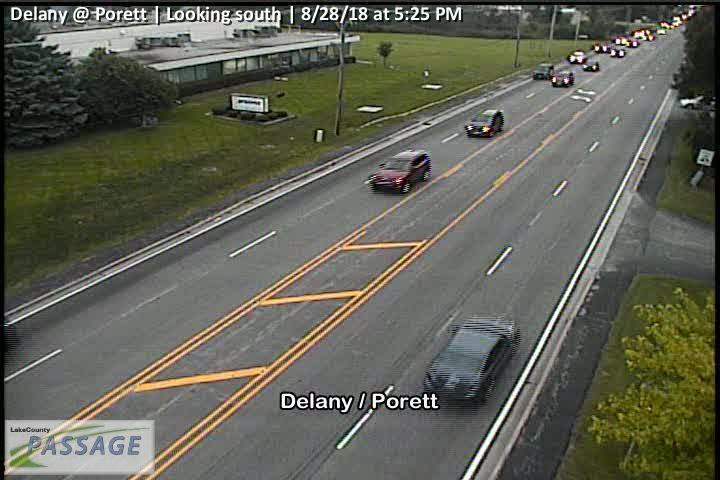SUV: (369, 149, 431, 192), (466, 108, 503, 138), (532, 63, 556, 80), (553, 70, 574, 87), (568, 50, 588, 64)
Sedan: (424, 318, 521, 405), (583, 60, 599, 72)
